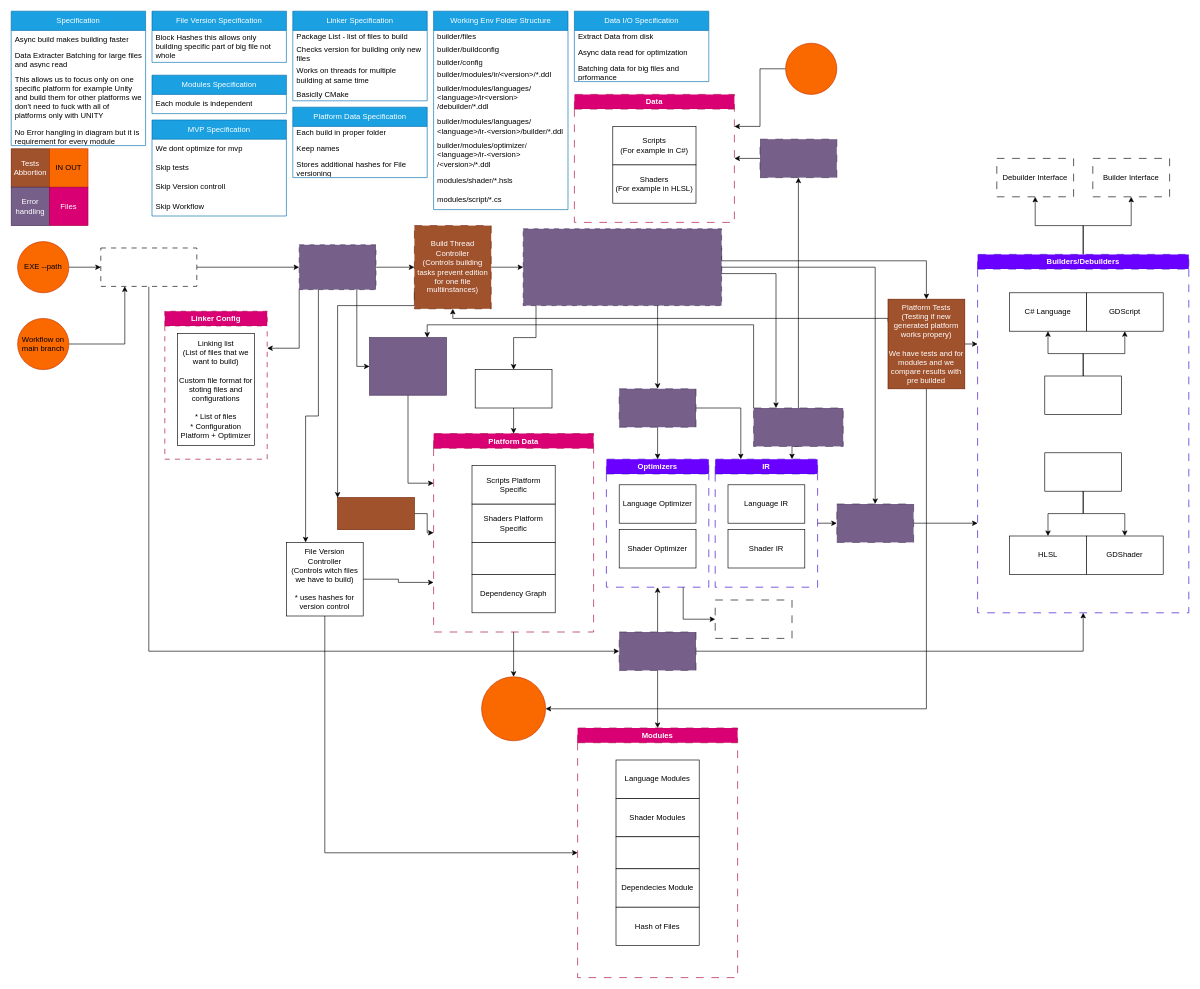
This 1200x989 diagram has some shape labels left out. Here are the shapes that lost their labels. From the top down, the centre of each, then its label:
point (811, 68): DEV
point (798, 158): Data I/O (Controls reading from disk)
point (148, 266): Package Builder (Entry Point)
point (337, 267): Linker (Read Linking list and run builing with proper configuration)
point (622, 267): Builder (Lang 1 -> IR -> Optimization -> Lang 2 -> Tests)
point (407, 366): Dependencies Controler (Controls all dependecies betwean files)
point (513, 388): Platform Package (Ready to use)
point (657, 407): IR Optimizer (Optimize IR)
point (1083, 394): Language Builder
point (798, 426): IR Creator (Convert Lang 1 to IR)
point (1083, 471): Shader Builder
point (375, 513): Backup System
point (875, 522): Platform Builder (Convert IR to Lang2)
point (513, 558): Files hashes
point (753, 618): Optimizer Interface
point (657, 650): Module Loader (Loads ddl from specific folders)
point (513, 708): Workflow push to deploy branch if all tests passed else abbort
point (657, 852): IR Modules
